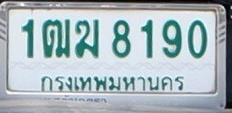num1: (19, 18, 35, 59)
txt04: (72, 18, 100, 60)
txt13: (40, 18, 72, 59)
